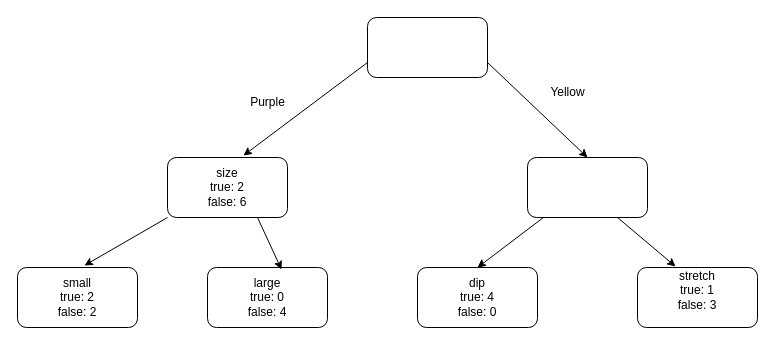
The diagram is 775 pixels wide and 345 high, and some of its shapes have lost their labels. The shapes that lost their labels are listed below. From the top down, each one's box as (x1, y1, x2, y2) in pixels, then its label:
(366, 16, 488, 78): colour true: 7 false: 9
(526, 156, 648, 218): act true: 5 false: 3
